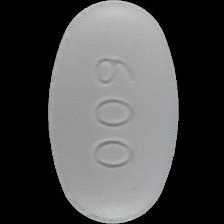21695-870: (0, 0, 224, 224)
